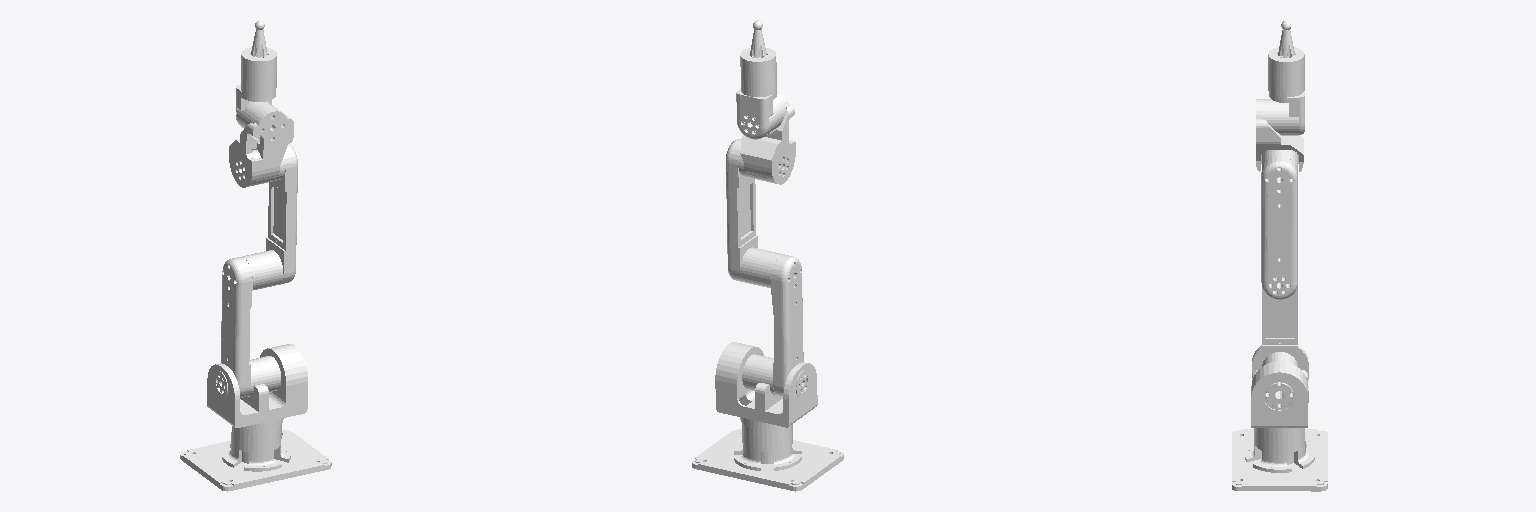
robot.urdf — arm_first:
<?xml version="1.0" encoding="utf-8"?>
<!-- This URDF was automatically created by SolidWorks to URDF Exporter! Originally created by Stephen Brawner (brawner@gmail.com) 
     Commit Version: 1.6.0-4-g7f85cfe  Build Version: 1.6.7995.38578
     For more information, please see http://wiki.ros.org/sw_urdf_exporter -->
<robot
  name="arm_first">
  <link
    name="base_link">
    <inertial>
      <origin
        xyz="0.010645 -0.010486 1.5689E-05"
        rpy="0 0 0" />
      <mass
        value="0.65234" />
      <inertia
        ixx="0.00083423"
        ixy="2.0603E-05"
        ixz="-2.48E-06"
        iyy="0.0018578"
        iyz="4.4884E-07"
        izz="0.0012592" />
    </inertial>
    <visual>
      <origin
        xyz="0 0 0"
        rpy="0 0 0" />
      <geometry>
        <mesh
          filename="package://arm_control/meshes/base_link.STL" />
      </geometry>
      <material
        name="">
        <color
          rgba="1 1 1 1" />
      </material>
    </visual>
    <collision>
      <origin
        xyz="0 0 0"
        rpy="0 0 0" />
      <geometry>
        <mesh
          filename="package://arm_control/meshes/base_link.STL" />
      </geometry>
    </collision>
  </link>
  <link
    name="link_1">
    <inertial>
      <origin
        xyz="0.013047 0.066717 0.00038765"
        rpy="0 0 0" />
      <mass
        value="0.64143" />
      <inertia
        ixx="0.00073553"
        ixy="-0.00025719"
        ixz="-4.7367E-06"
        iyy="0.0012004"
        iyz="2.03E-05"
        izz="0.0012683" />
    </inertial>
    <visual>
      <origin
        xyz="0 0 0"
        rpy="0 0 0" />
      <geometry>
        <mesh
          filename="package://arm_control/meshes/link_1.STL" />
      </geometry>
      <material
        name="">
        <color
          rgba="1 1 1 1" />
      </material>
    </visual>
    <collision>
      <origin
        xyz="0 0 0"
        rpy="0 0 0" />
      <geometry>
        <mesh
          filename="package://arm_control/meshes/link_1.STL" />
      </geometry>
    </collision>
  </link>
  <joint
    name="joint_1"
    type="continuous">
    <origin
      xyz="0.011353 -3.912E-05 0.024725"
      rpy="1.5713 0.02012 -0.0058543" />
    <parent
      link="base_link" />
    <child
      link="link_1" />
    <axis
      xyz="0 1 0" />
    <limit
      lower="-2.3562"
      upper="2.3562"
      effort="100"
      velocity="1" />
  </joint>
  <link
    name="link_2">
    <inertial>
      <origin
        xyz="0.11068 0.034869 1.0789E-08"
        rpy="0 0 0" />
      <mass
        value="0.68644" />
      <inertia
        ixx="0.00023475"
        ixy="1.5737E-05"
        ixz="-6.8484E-11"
        iyy="0.0027619"
        iyz="-1.4167E-10"
        izz="0.0026635" />
    </inertial>
    <visual>
      <origin
        xyz="0 0 0"
        rpy="0 0 0" />
      <geometry>
        <mesh
          filename="package://arm_control/meshes/link_2.STL" />
      </geometry>
      <material
        name="">
        <color
          rgba="1 1 1 1" />
      </material>
    </visual>
    <collision>
      <origin
        xyz="0 0 0"
        rpy="0 0 0" />
      <geometry>
        <mesh
          filename="package://arm_control/meshes/link_2.STL" />
      </geometry>
    </collision>
  </link>
  <joint
    name="joint_2"
    type="continuous">
    <origin
      xyz="0 0.088758 0"
      rpy="0 0 1.5708" />
    <parent
      link="link_1" />
    <child
      link="link_2" />
    <axis
      xyz="0 1 0" />
    <limit
      lower="-1.5708"
      upper="1.5708"
      effort="100"
      velocity="1" />
  </joint>
  <link
    name="link_3">
    <inertial>
      <origin
        xyz="0.11005 0.033516 1.9555E-08"
        rpy="0 0 0" />
      <mass
        value="0.7374" />
      <inertia
        ixx="0.00025113"
        ixy="-1.0602E-06"
        ixz="-6.3962E-11"
        iyy="0.0029667"
        iyz="-2.3757E-10"
        izz="0.0028522" />
    </inertial>
    <visual>
      <origin
        xyz="0 0 0"
        rpy="0 0 0" />
      <geometry>
        <mesh
          filename="package://arm_control/meshes/link_3.STL" />
      </geometry>
      <material
        name="">
        <color
          rgba="1 1 1 1" />
      </material>
    </visual>
    <collision>
      <origin
        xyz="0 0 0"
        rpy="0 0 0" />
      <geometry>
        <mesh
          filename="package://arm_control/meshes/link_3.STL" />
      </geometry>
    </collision>
  </link>
  <joint
    name="joint_3"
    type="continuous">
    <origin
      xyz="0.184 0 0"
      rpy="-3.1416 0 0" />
    <parent
      link="link_2" />
    <child
      link="link_3" />
    <axis
      xyz="0 1 0" />
    <limit
      lower="-1.5708"
      upper="1.5708"
      effort="100"
      velocity="1" />
  </joint>
  <link
    name="link_4">
    <inertial>
      <origin
        xyz="0.049628 -0.0075971 0.0074952"
        rpy="0 0 0" />
      <mass
        value="0.60269" />
      <inertia
        ixx="0.00052062"
        ixy="0.00013803"
        ixz="0.00014077"
        iyy="0.00067664"
        iyz="-6.3687E-05"
        izz="0.00068779" />
    </inertial>
    <visual>
      <origin
        xyz="0 0 0"
        rpy="0 0 0" />
      <geometry>
        <mesh
          filename="package://arm_control/meshes/link_4.STL" />
      </geometry>
      <material
        name="">
        <color
          rgba="1 1 1 1" />
      </material>
    </visual>
    <collision>
      <origin
        xyz="0 0 0"
        rpy="0 0 0" />
      <geometry>
        <mesh
          filename="package://arm_control/meshes/link_4.STL" />
      </geometry>
    </collision>
  </link>
  <joint
    name="joint_4"
    type="continuous">
    <origin
      xyz="0.184 0 0"
      rpy="1.5708 0 0" />
    <parent
      link="link_3" />
    <child
      link="link_4" />
    <axis
      xyz="0 0 1" />
    <limit
      lower="-1.5708"
      upper="1.5708"
      effort="100"
      velocity="1" />
  </joint>
  <link
    name="link_5">
    <inertial>
      <origin
        xyz="-0.0603 -0.014918 -1.4257E-09"
        rpy="0 0 0" />
      <mass
        value="0.20932" />
      <inertia
        ixx="8.7973E-05"
        ixy="9.7337E-06"
        ixz="7.554E-13"
        iyy="0.00010977"
        iyz="-3.2835E-13"
        izz="0.00010465" />
    </inertial>
    <visual>
      <origin
        xyz="0 0 0"
        rpy="0 0 0" />
      <geometry>
        <mesh
          filename="package://arm_control/meshes/link_5.STL" />
      </geometry>
      <material
        name="">
        <color
          rgba="1 1 1 1" />
      </material>
    </visual>
    <collision>
      <origin
        xyz="0 0 0"
        rpy="0 0 0" />
      <geometry>
        <mesh
          filename="package://arm_control/meshes/link_5.STL" />
      </geometry>
    </collision>
  </link>
  <joint
    name="joint_5"
    type="continuous">
    <origin
      xyz="0.0815 0 0.0025"
      rpy="0 0 -3.1416" />
    <parent
      link="link_4" />
    <child
      link="link_5" />
    <axis
      xyz="0 -1 0" />
    <limit
      lower="-1.5708"
      upper="1.5708"
      effort="100"
      velocity="1" />
  </joint>
  <link
    name="link_6">
    <inertial>
      <origin
        xyz="-1.5722E-10 0.016911 -1.5926E-10"
        rpy="0 0 0" />
      <mass
        value="0.027017" />
      <inertia
        ixx="1.0603E-05"
        ixy="8.2392E-15"
        ixz="4.9083E-15"
        iyy="5.8416E-06"
        iyz="5.3079E-14"
        izz="1.0603E-05" />
    </inertial>
    <visual>
      <origin
        xyz="0 0 0"
        rpy="0 0 0" />
      <geometry>
        <mesh
          filename="package://arm_control/meshes/link_6.STL" />
      </geometry>
      <material
        name="">
        <color
          rgba="1 1 1 1" />
      </material>
    </visual>
    <collision>
      <origin
        xyz="0 0 0"
        rpy="0 0 0" />
      <geometry>
        <mesh
          filename="package://arm_control/meshes/link_6.STL" />
      </geometry>
    </collision>
  </link>
  <joint
    name="joint_6"
    type="continuous">
    <origin
      xyz="-0.10372 -0.0105 0"
      rpy="0 1.4536 1.5708" />
    <parent
      link="link_5" />
    <child
      link="link_6" />
    <axis
      xyz="0 1 0" />
    <limit
      lower="-2.3562"
      upper="2.3562"
      effort="100"
      velocity="1" />
  </joint>
</robot>

--- Render facts (derived) ---
The picture shows the robot from 3 angles, left to right: view 1: azimuth 30°, elevation 25°; view 2: azimuth 150°, elevation 25°; view 3: azimuth 270°, elevation 25°; orthographic projection.
Robot: arm_first — 7 links, 6 joints (6 continuous); root link base_link; default pose: all joints at 0.
Visible links, largest first — view 1: base_link, link_1, link_2, link_4, link_3, link_5, link_6; view 2: base_link, link_1, link_2, link_3, link_4, link_5, link_6; view 3: base_link, link_3, link_1, link_4, link_2, link_5, link_6.
Boxes of the visible links, <box> form: base_link: <box>180,418,331,491</box>; link_1: <box>207,344,307,427</box>; link_2: <box>216,250,282,397</box>; link_4: <box>229,101,293,187</box>; link_3: <box>252,144,297,284</box>; link_5: <box>236,58,276,119</box>; link_6: <box>241,21,276,63</box>; base_link: <box>692,417,843,491</box>; link_1: <box>715,342,817,427</box>; link_2: <box>740,247,807,396</box>; link_3: <box>726,139,771,281</box>; link_4: <box>740,91,795,184</box>; link_5: <box>736,58,776,139</box>; link_6: <box>740,20,775,64</box>; base_link: <box>1232,428,1327,491</box>; link_3: <box>1261,150,1297,299</box>; link_1: <box>1251,345,1308,427</box>; link_4: <box>1256,99,1303,171</box>; link_2: <box>1262,286,1297,363</box>; link_5: <box>1268,58,1304,134</box>; link_6: <box>1268,21,1304,64</box>.
Size in the robot's own frame: 0.2009 by 0.1511 by 0.7719 metres.
Meshes: 7 distinct files referenced, 7 mesh visuals loaded (7 binary STL).
